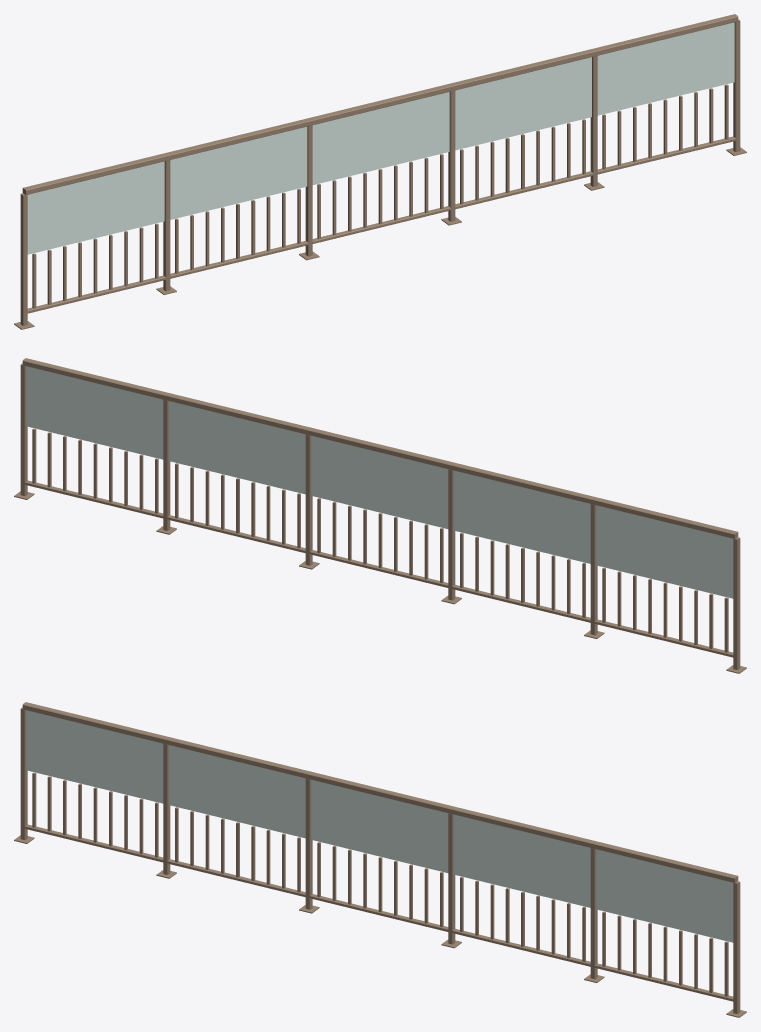
Rendered from gc-s80b-mixte-600-quartz-1019.glb.
3 views of the same model, one above another, from view 1: azimuth 30°, elevation 25°; view 2: azimuth 150°, elevation 25°; view 3: azimuth 330°, elevation 25° (orthographic).
Visible parts, largest first — view 1: verre, structure; view 2: verre, structure; view 3: verre, structure.
Boxes of the visible parts, x1,y1,x2,y2 form: verre: [27, 22, 734, 254]; structure: [14, 14, 746, 329]; verre: [26, 366, 733, 598]; structure: [14, 358, 746, 673]; verre: [26, 710, 733, 942]; structure: [14, 702, 746, 1017].
Bounding box in the file's own units: 6.11 × 1.1 × 0.11.
